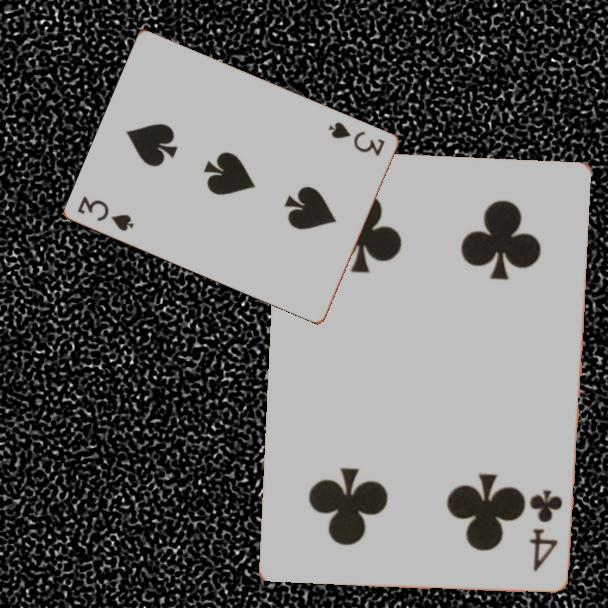c04: (526, 486, 565, 574)
s03: (74, 192, 137, 234), (325, 118, 388, 159)
